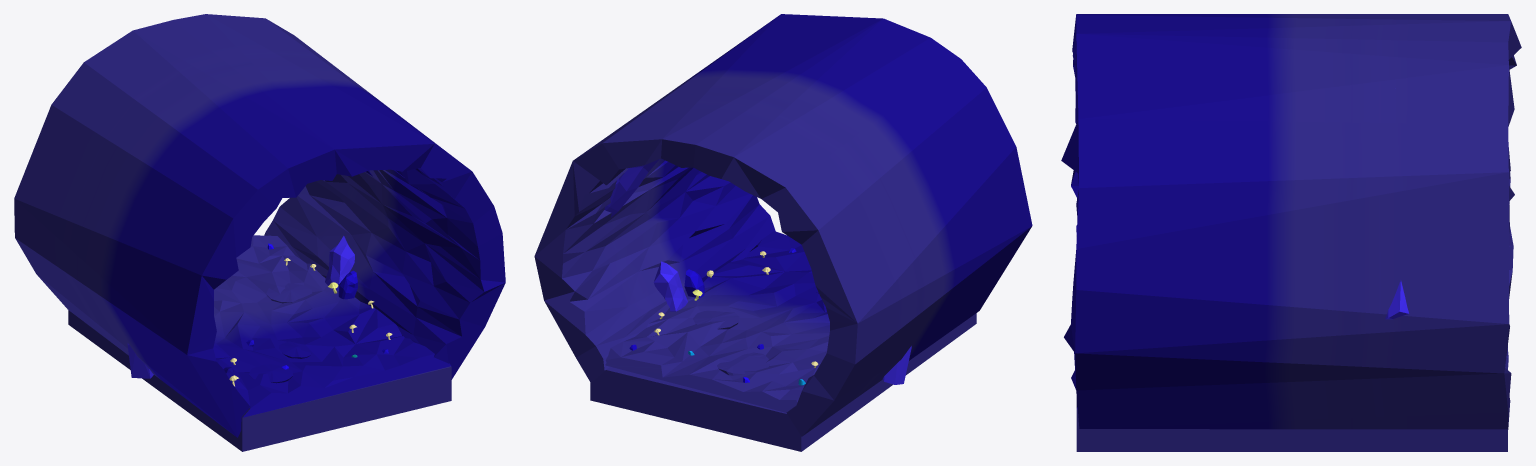
The model's file is MAP_ver4 _ All Plus Final .fbx.
3 views of the same model, side by side, from view 1: azimuth 30°, elevation 25°; view 2: azimuth 150°, elevation 25°; view 3: azimuth 270°, elevation 25° (orthographic). The views are drawn at different scales.
Parts seen in each view (by area): view 1: Cube.001; view 2: Cube.001; view 3: Cube.001.
Boxes of the visible parts, x1=… form: Cube.001: x1=14, y1=14, x2=505, y2=451; Cube.001: x1=534, y1=14, x2=1032, y2=451; Cube.001: x1=1061, y1=14, x2=1521, y2=451.
Bounding box in the file's own units: 2771 × 2358 × 2754.
